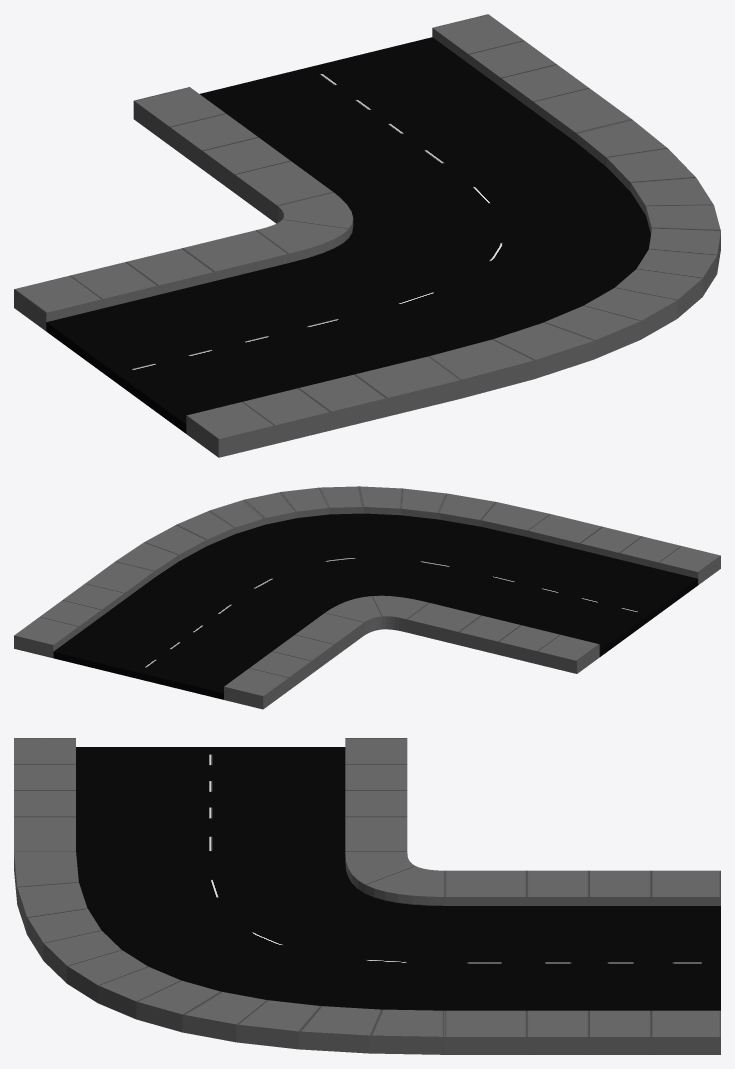
Rendered from Modular Road Turn.fbx.
3 views of the same model, one above another, from view 1: azimuth 30°, elevation 25°; view 2: azimuth 150°, elevation 25°; view 3: azimuth 270°, elevation 25° (orthographic). The views are drawn at different scales.
Parts seen in each view (by area): view 1: Modular Road Turn; view 2: Modular Road Turn; view 3: Modular Road Turn.
Boxes of the visible parts, bbox=[...] form: Modular Road Turn: bbox=[14, 14, 720, 457]; Modular Road Turn: bbox=[14, 486, 720, 709]; Modular Road Turn: bbox=[14, 738, 720, 1054].
Size of the model in its own units: 36 by 36 by 1.01.
Materials: 3 (3 with a texture image).
